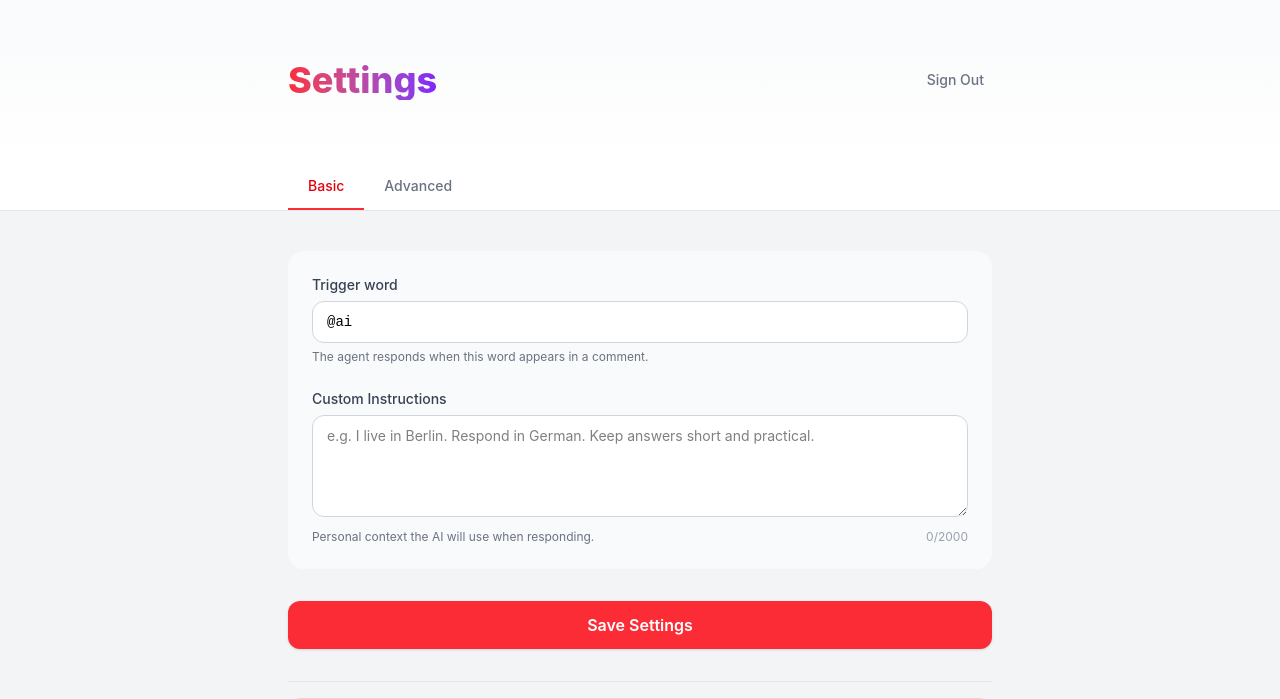
Test: Settings: tab navigation › shows AI provider and web search fields on Advanced tab
The width and height of the screenshot is (1280, 699).
Check: the heading "Settings" is shown, box [288,60,437,100]
Step 1. Click the tab "Advanced" → [418, 187], box [364,164,472,210]
(page scrolled)
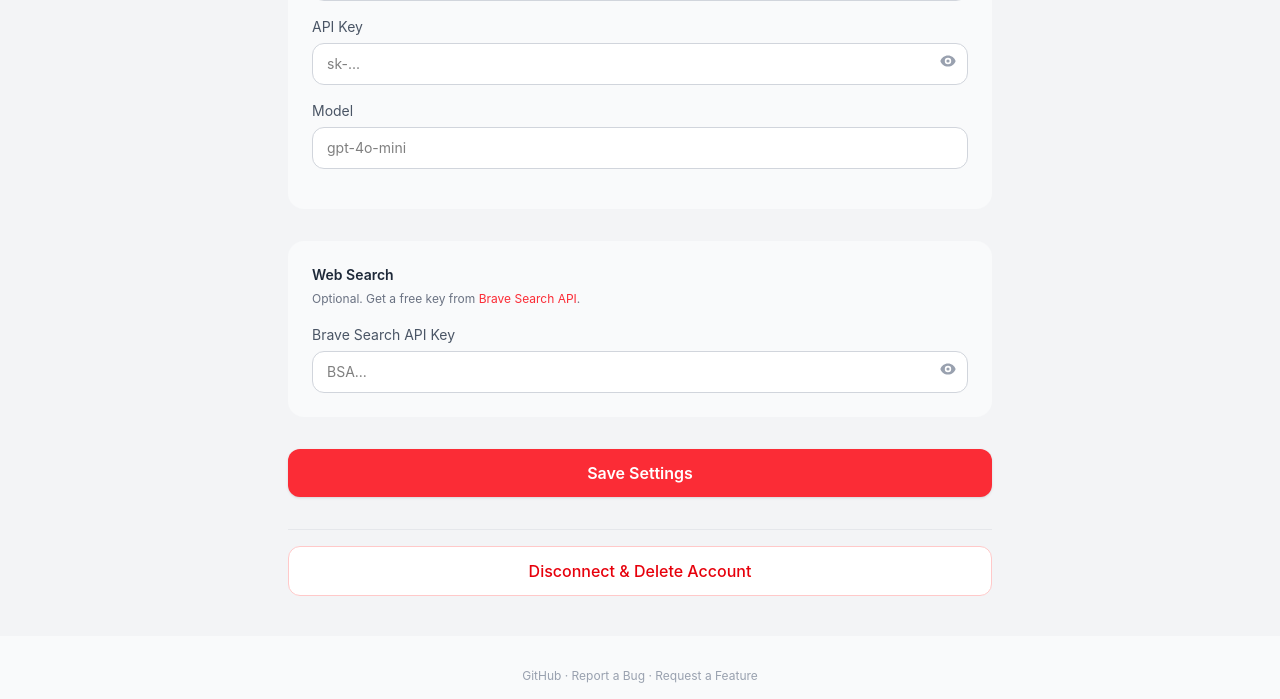
Check: the field labelled "Model" is shown, box [312,127,968,169]
Check: the password field named "AI provider API key" is shown, box [312,43,968,85]
Check: the password field labelled "Brave Search API Key" is shown, box [312,350,968,392]
